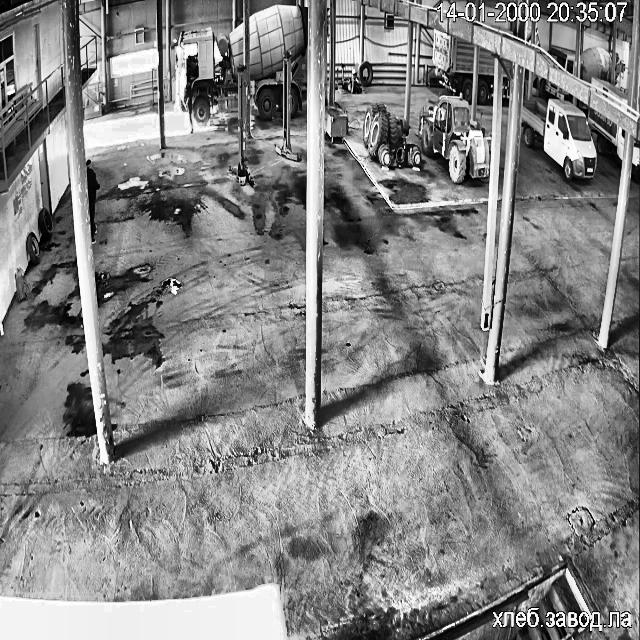class4: (87, 160, 99, 242), (185, 83, 192, 132)
class6: (419, 96, 489, 181), (363, 103, 420, 165)
class7: (176, 25, 244, 124), (248, 4, 306, 117), (521, 100, 596, 180), (432, 28, 473, 100), (588, 108, 624, 158), (580, 45, 611, 81), (476, 49, 494, 102), (592, 78, 628, 102), (536, 77, 571, 98), (548, 45, 574, 73), (632, 140, 640, 174), (500, 79, 508, 97), (616, 53, 621, 76), (504, 60, 510, 74)
tractor: (16, 268, 24, 300)
truck: (275, 52, 300, 161), (230, 66, 252, 185)
